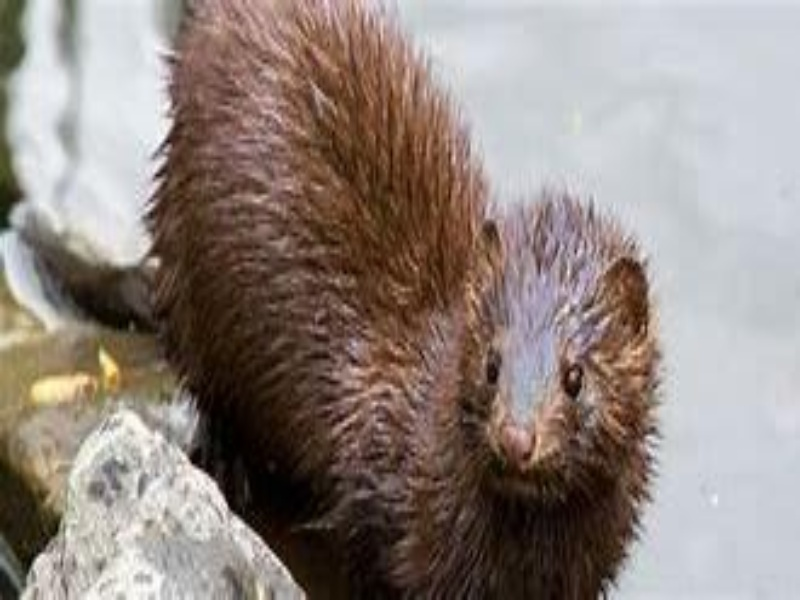minkish: (151, 1, 662, 599)
